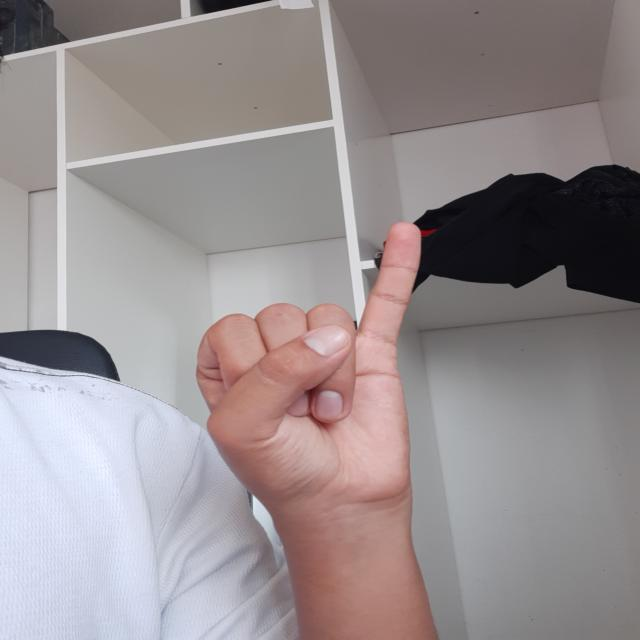I: (192, 208, 440, 520)
